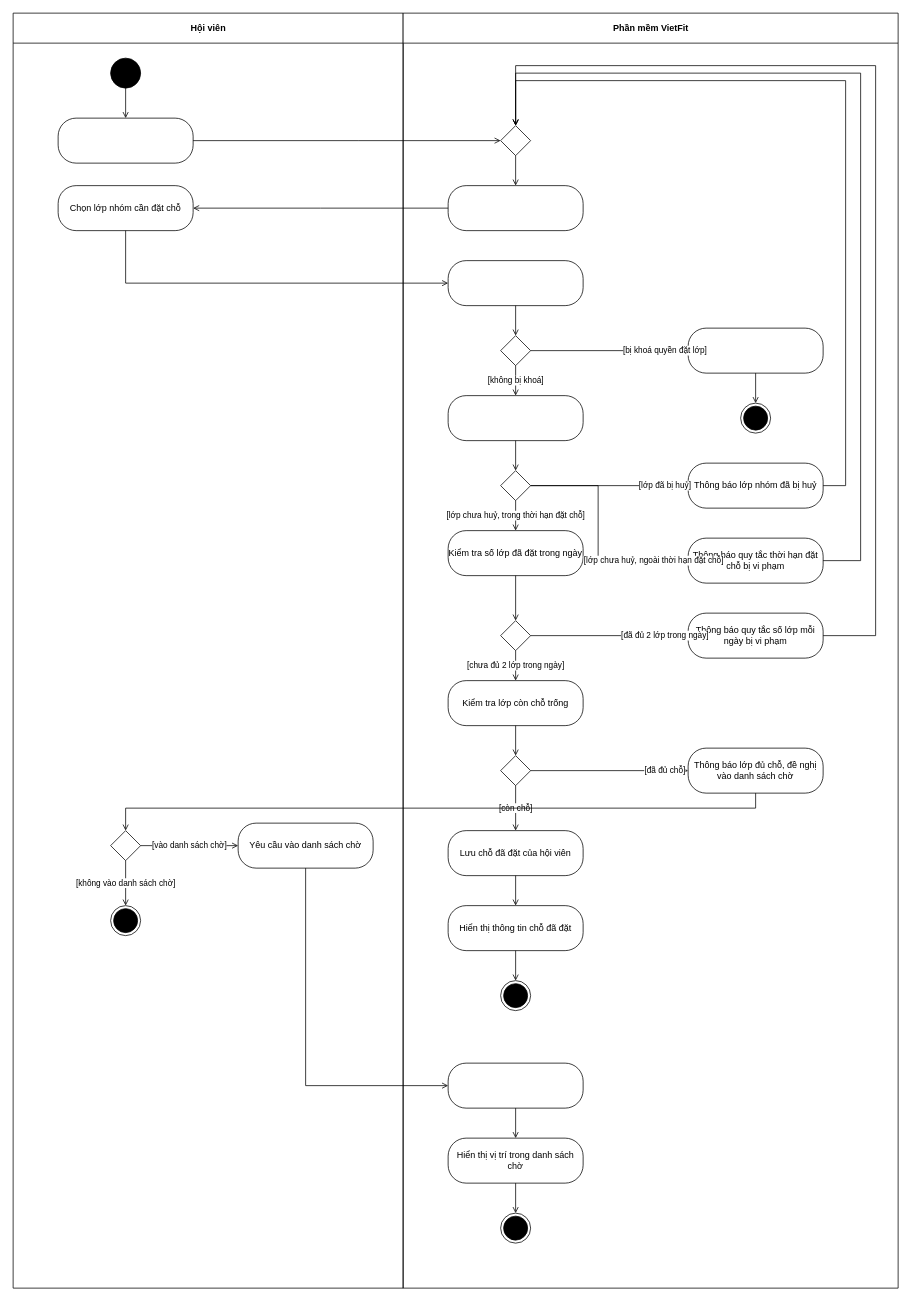
Image size: 911x1301. Some labels were removed from this diagram. Each missing label, with the centre of its shape:
"Hiển thị lịch các lớp nhóm" goes at point (515, 208).
"Kiểm tra lớp chưa huỷ và thời hạn đặt chỗ" goes at point (515, 418).
"Kiểm tra quyền đặt lớp không bị khoá" goes at point (515, 283).
"Thêm hội viên vào danh sách chờ" goes at point (515, 1085).
"Thông báo quyền đặt lớp bị khoá" goes at point (755, 350).
"Yêu cầu đặt chỗ lớp nhóm" goes at point (125, 140).
